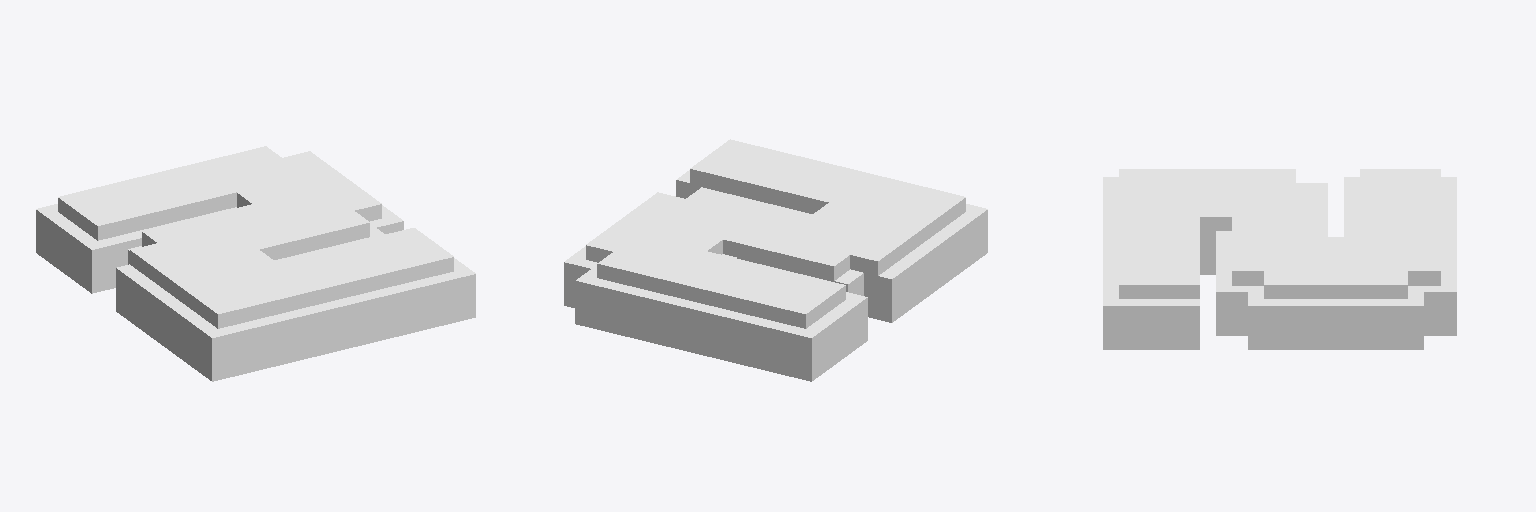
The model's file is CountDown2.obj.
The picture shows the model from 3 angles: view 1: azimuth 30°, elevation 25°; view 2: azimuth 150°, elevation 25°; view 3: azimuth 270°, elevation 25°; orthographic projection.
Visible parts, largest first — view 1: object 1; view 2: object 1; view 3: object 1.
Boxes of the visible parts, x1,y1,x2,y2 form: object 1: [36, 146, 475, 381]; object 1: [564, 139, 987, 381]; object 1: [1103, 169, 1456, 349].
Size of the model in its own units: 1.9 by 0.4 by 2.2.